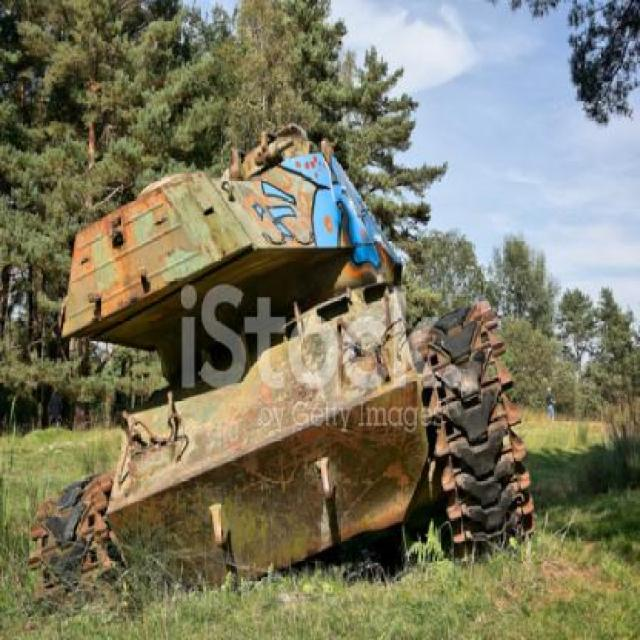corrosion: (26, 127, 534, 627)
